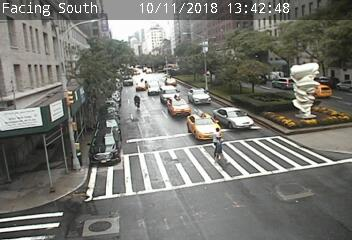car: (89, 129, 120, 164), (187, 114, 221, 140), (213, 107, 253, 129), (167, 98, 190, 117), (187, 88, 211, 104), (160, 85, 179, 103), (305, 85, 332, 97), (272, 77, 295, 90), (148, 81, 161, 95), (164, 78, 177, 87), (136, 80, 148, 89)
